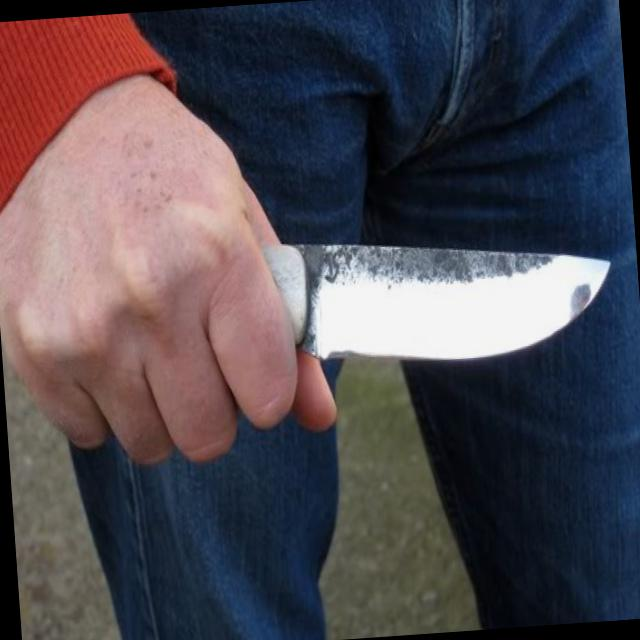knife: (92, 195, 628, 472)
